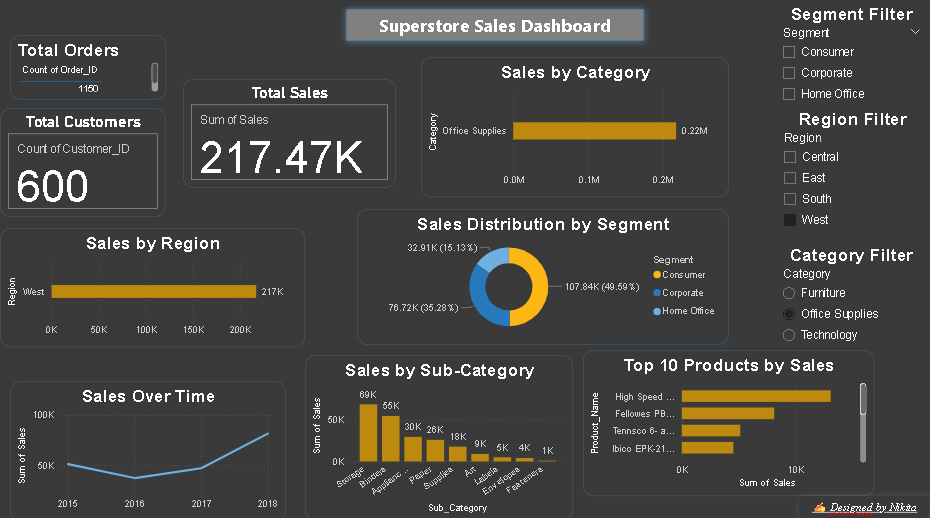

This screenshot's page, from the dashboard's own definition file:
{"tool":"powerbi","page":{"name":"Page 1","canvas":[1280,720],"ordinal":0},"visuals":[{"type":"shape","box":[468,6.9,426.7,60.6],"z":0},{"type":"tableEx","title":"Total Orders","fields":{"Values":["superstore_final_dataset (1).Order_ID"]},"box":[13.8,50.9,214.7,89.5],"z":1000},{"type":"cardVisual","title":"Total Customers","fields":{"Data":["Count(superstore_final_dataset (1).Customer_ID)"]},"box":[0,151.4,228.5,150],"z":2000},{"type":"cardVisual","title":"Total Sales","fields":{"Data":["Sum(superstore_final_dataset (1).Sales)"]},"box":[251.9,111.5,293.2,150],"z":3000},{"type":"clusteredBarChart","title":"Sales by Category","fields":{"Category":["superstore_final_dataset (1).Category"],"Y":["Sum(superstore_final_dataset (1).Sales)"]},"box":[579.4,81.2,423.9,192.7],"z":4000},{"type":"clusteredColumnChart","title":"Sales by Sub-Category","fields":{"Category":["superstore_final_dataset (1).Sub_Category"],"Y":["Sum(superstore_final_dataset (1).Sales)"]},"box":[419.8,491.4,368.9,228.5],"z":5000},{"type":"clusteredBarChart","title":"Sales by Region","fields":{"Category":["superstore_final_dataset (1).Region"],"Y":["Sum(superstore_final_dataset (1).Sales)"]},"box":[0,316.6,419.8,163.8],"z":6000},{"type":"donutChart","title":"Sales Distribution by Segment","fields":{"Category":["superstore_final_dataset (1).Segment"],"Y":["Sum(superstore_final_dataset (1).Sales)"]},"box":[491.4,290.4,512,187.2],"z":7000},{"type":"lineChart","title":"Sales Over Time","fields":{"Category":["superstore_final_dataset (1).Order_Date.Variation.Date Hierarchy.Year","superstore_final_dataset (1).Order_Date.Variation.Date Hierarchy.Quarter","superstore_final_dataset (1).Order_Date.Variation.Date Hierarchy.Month","superstore_final_dataset (1).Order_Date.Variation.Date Hierarchy.Day"],"Y":["Sum(superstore_final_dataset (1).Sales)"]},"box":[13.8,527.1,379.9,192.7],"z":8000},{"type":"clusteredBarChart","title":"Top 10 Products by Sales","fields":{"Category":["superstore_final_dataset (1).Product_Name"],"Y":["Sum(superstore_final_dataset (1).Sales)"]},"box":[802.4,484.5,400.5,200.9],"z":9000},{"type":"slicer","title":"Segment Filter","fields":{"Values":["superstore_final_dataset (1).Segment"]},"box":[1065.3,6.9,213.3,267],"z":10000},{"type":"slicer","title":"Region Filter","fields":{"Values":["superstore_final_dataset (1).Region"]},"box":[1066.7,151.4,213.9,187.3],"z":11000},{"type":"slicer","title":"Category Filter","fields":{"Values":["superstore_final_dataset (1).Category"]},"box":[1065.3,338.6,213.3,145.9],"z":12000},{"type":"textbox","box":[1099.7,685.4,180.3,34.4],"z":12001}]}

Visuals, with their boxes in screenshot pixels (x1, y1, x2, y2), scaled from the page's 1280x720 canvas onto the 930x518 screenshot:
shape: bbox=(340, 5, 650, 49)
"Total Orders" tableEx: bbox=(10, 37, 166, 101)
"Total Customers" cardVisual: bbox=(0, 109, 166, 217)
"Total Sales" cardVisual: bbox=(183, 80, 396, 188)
"Sales by Category" clusteredBarChart: bbox=(421, 58, 729, 197)
"Sales by Sub-Category" clusteredColumnChart: bbox=(305, 354, 573, 517)
"Sales by Region" clusteredBarChart: bbox=(0, 228, 305, 346)
"Sales Distribution by Segment" donutChart: bbox=(357, 209, 729, 344)
"Sales Over Time" lineChart: bbox=(10, 379, 286, 517)
"Top 10 Products by Sales" clusteredBarChart: bbox=(583, 349, 874, 493)
"Segment Filter" slicer: bbox=(774, 5, 929, 197)
"Region Filter" slicer: bbox=(775, 109, 929, 244)
"Category Filter" slicer: bbox=(774, 244, 929, 349)
textbox: bbox=(799, 493, 929, 517)
